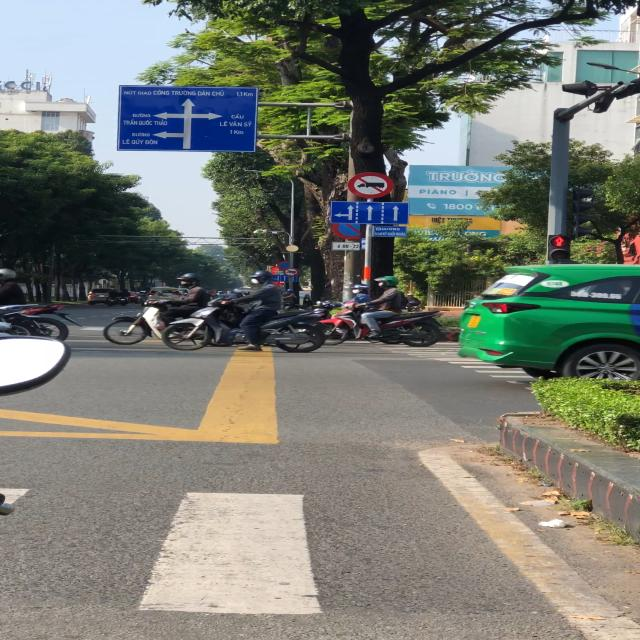Bien bao cam xe so-mi ro-mooc: (347, 171, 395, 199), (282, 267, 301, 277)
